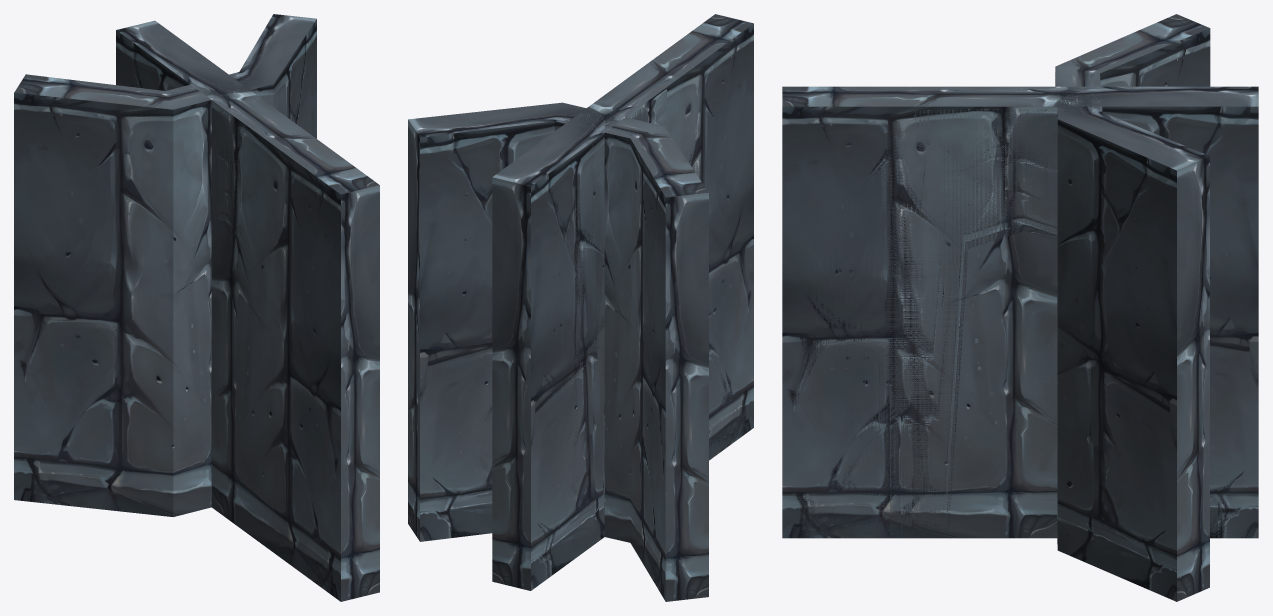
The model's file is CastleParts.glb.
3 views of the same model, side by side, from view 1: azimuth 30°, elevation 25°; view 2: azimuth 150°, elevation 25°; view 3: azimuth 270°, elevation 25° (orthographic). The views are drawn at different scales.
Parts seen in each view (by area): view 1: 01WallCorner, 00WallHorizontal, 02Gate; view 2: 01WallCorner, 00WallHorizontal, 02Gate; view 3: 00WallHorizontal, 02Gate, 01WallCorner.
Part boxes in pixels (x1,y1,x2,y2): 01WallCorner: [14, 14, 316, 516]; 00WallHorizontal: [116, 20, 379, 601]; 02Gate: [116, 21, 376, 600]; 01WallCorner: [408, 102, 708, 601]; 00WallHorizontal: [492, 14, 753, 590]; 02Gate: [493, 14, 753, 588]; 00WallHorizontal: [782, 86, 1258, 538]; 02Gate: [782, 86, 1258, 538]; 01WallCorner: [1055, 14, 1210, 601].
Bounding box in the file's own units: 1.56 × 2 × 2.
1 material, 1 textured.
